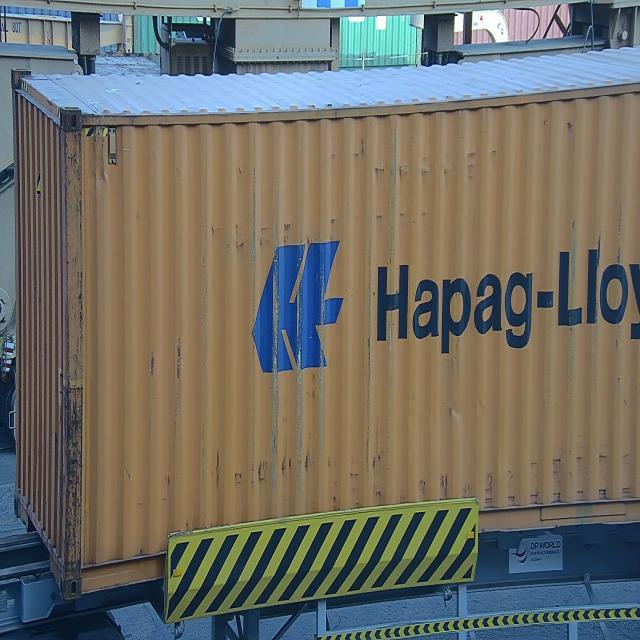rust: (57, 368, 91, 502), (48, 91, 88, 165)
